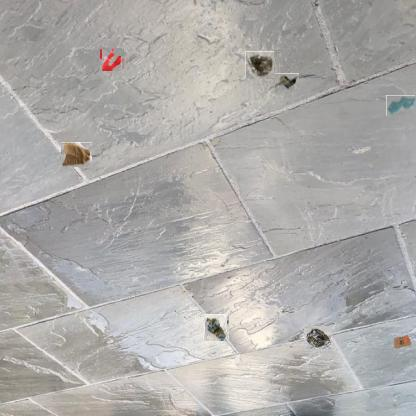dirty: (60, 142, 92, 167), (246, 51, 273, 78), (304, 326, 332, 350), (203, 315, 228, 340), (275, 73, 299, 90), (394, 334, 416, 352), (345, 142, 371, 154)
liquid: (386, 95, 415, 116), (101, 48, 123, 70)
